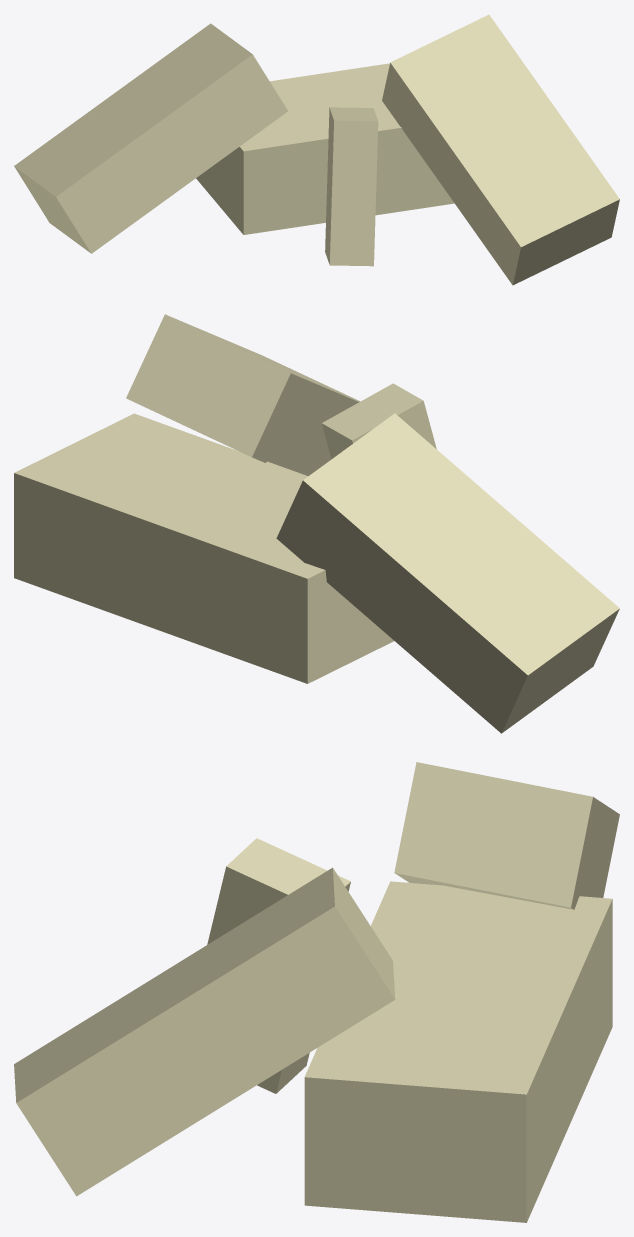
Rendered from Bricks.fbx.
3 renders of one model, top to bottom at view 1: azimuth 30°, elevation 25°; view 2: azimuth 150°, elevation 25°; view 3: azimuth 270°, elevation 25°, orthographic. The views are drawn at different scales.
Visible parts, largest first — view 1: Cube.004; view 2: Cube.004; view 3: Cube.004.
Part boxes in pixels (bbox=[...]): Cube.004: bbox=[14, 14, 619, 285]; Cube.004: bbox=[14, 314, 619, 733]; Cube.004: bbox=[14, 762, 619, 1222].
Bounding box in the file's own units: 342 × 139 × 257.
